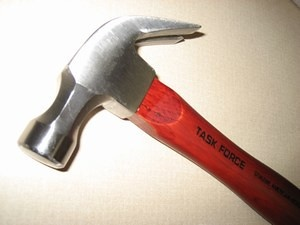hammer: (20, 14, 296, 225)
